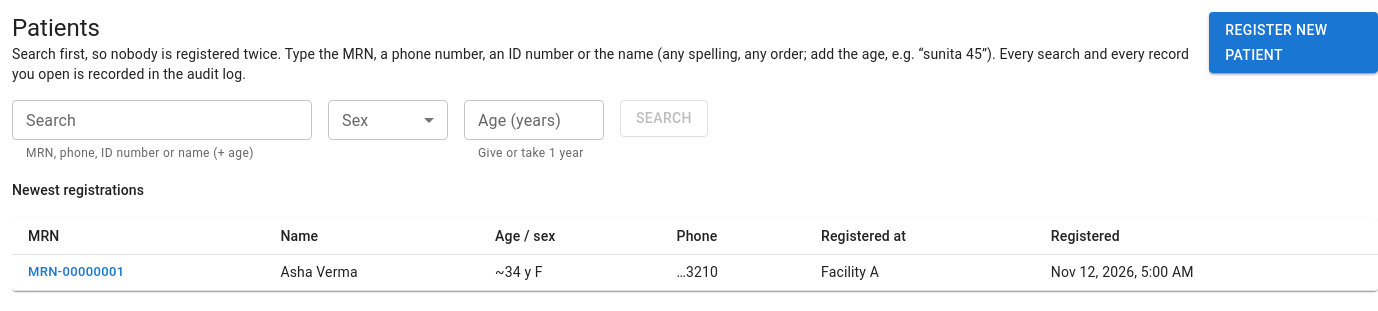
Test case: Restricted records (HIMS-PAT-006) › shows an exact-MRN restricted row with nothing about the patient
The image size is (1378, 311).
Check: the link "MRN-00000001" is shown, box x1=28 y1=261 x2=125 y2=284
Step 1. Type "MRN-00000001" into the field labelled "Search" → (162, 120), box x1=12 y1=100 x2=312 y2=140
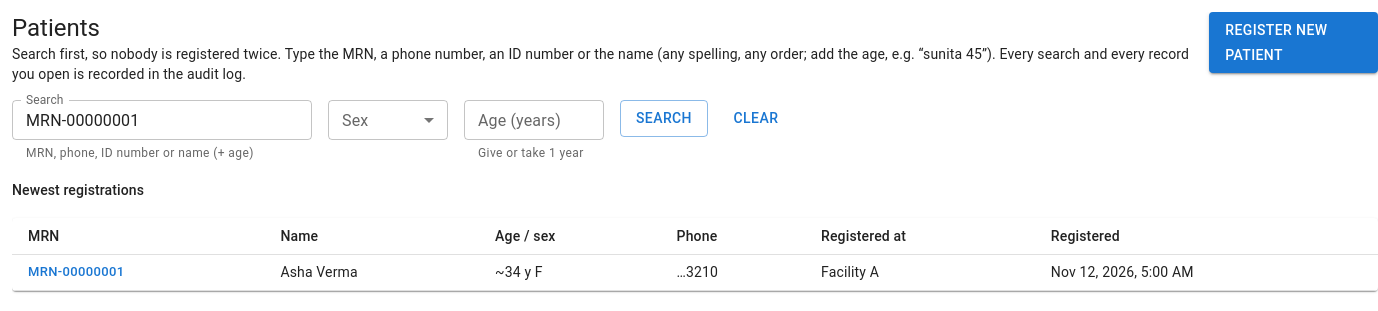
Step 2. Click the button "Search" → (664, 118), box x1=620 y1=100 x2=708 y2=136
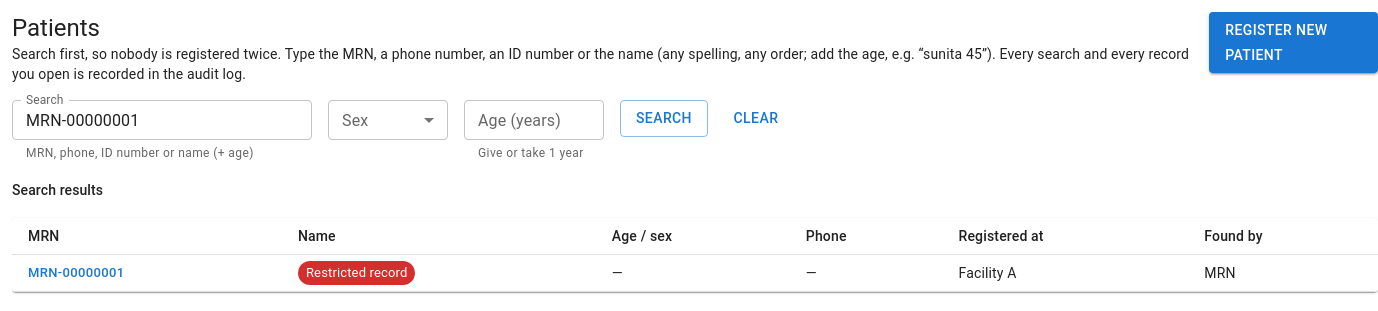
Check: the text "Restricted record" shows "MRN-00000001", box x1=28 y1=262 x2=125 y2=284
Check: the heading "Search results" is shown, box x1=12 y1=182 x2=103 y2=198
Check: the text "Restricted record" no longer shows "Asha", box x1=12 y1=254 x2=1377 y2=291
